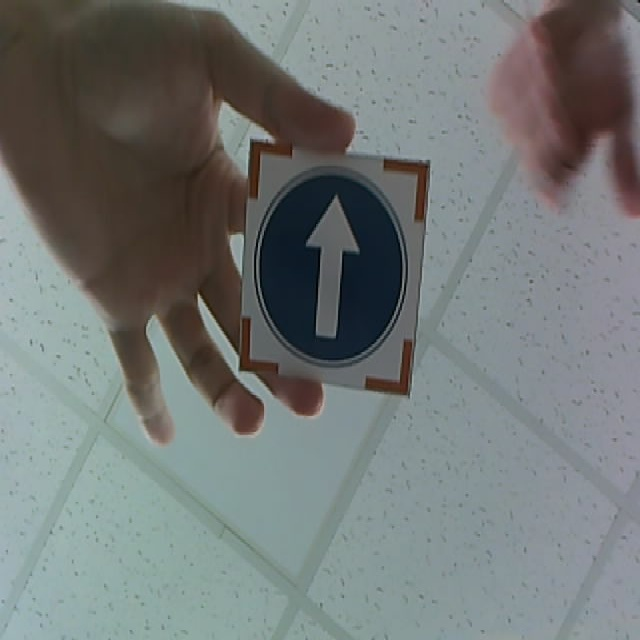straight: (237, 138, 429, 401)
